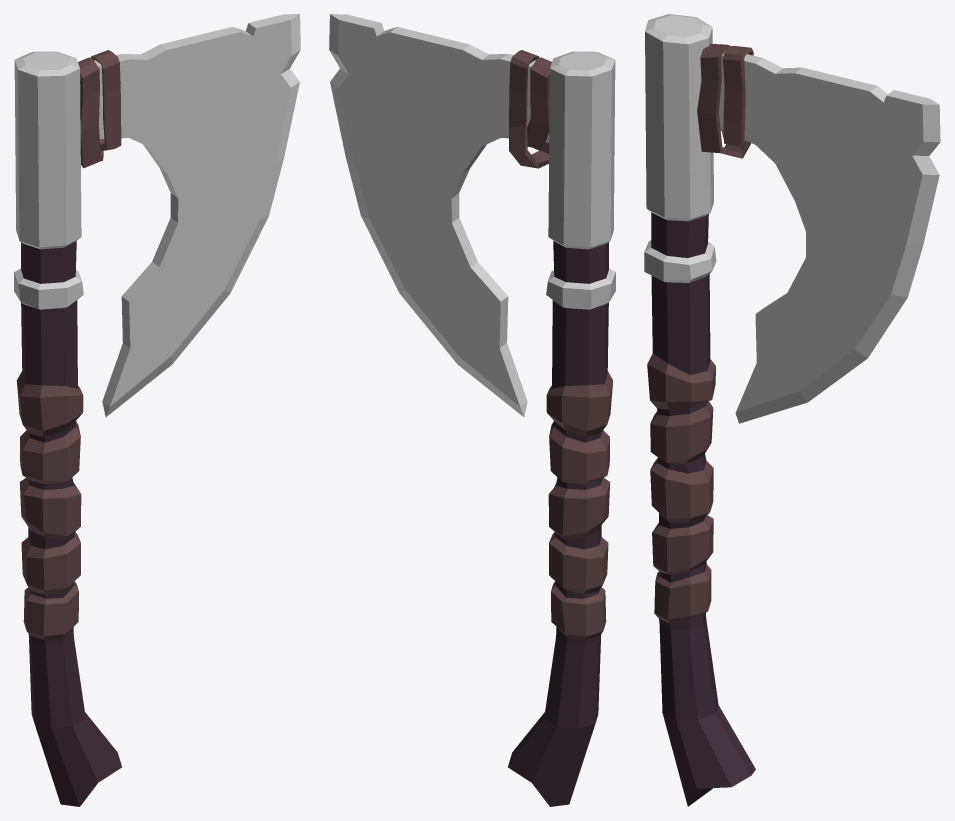
Rendered from q_axe_small.glb.
The picture shows the model from 3 angles, left to right: view 1: azimuth 30°, elevation 25°; view 2: azimuth 150°, elevation 25°; view 3: azimuth 330°, elevation 25°; orthographic projection. The views are drawn at different scales.
Visible parts, largest first — view 1: Axe_small; view 2: Axe_small; view 3: Axe_small.
Boxes of the visible parts, x1=… form: Axe_small: x1=14, y1=14, x2=300, y2=806; Axe_small: x1=329, y1=14, x2=615, y2=806; Axe_small: x1=644, y1=14, x2=940, y2=806.
Bounding box in the file's own units: 0.3118 × 0.7873 × 0.0661.
